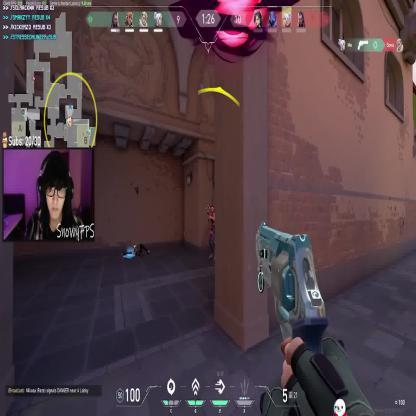enemy: (208, 206, 218, 262)
enemy_head: (211, 205, 214, 213)
